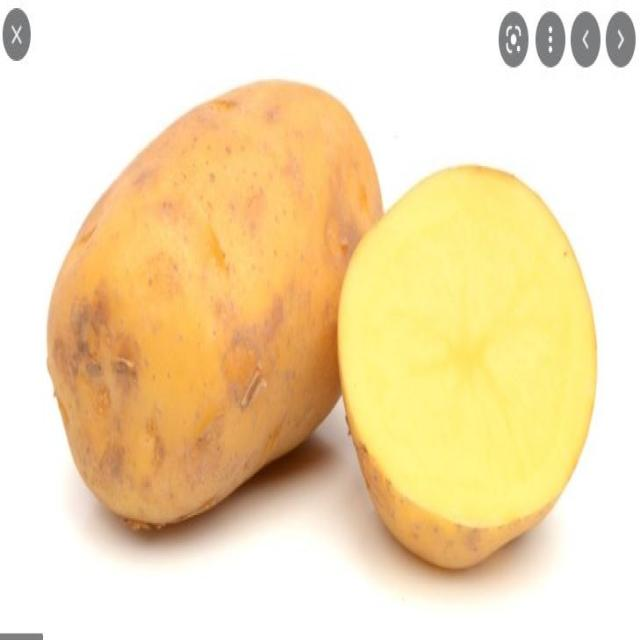potato: (48, 80, 384, 522)
